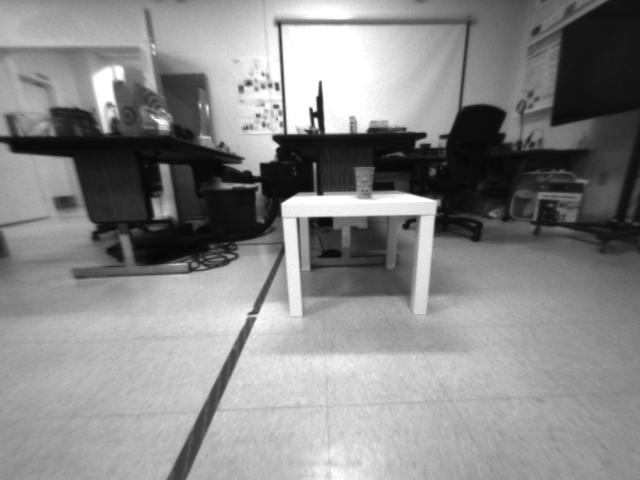coffee_cup: (352, 163, 376, 199)
